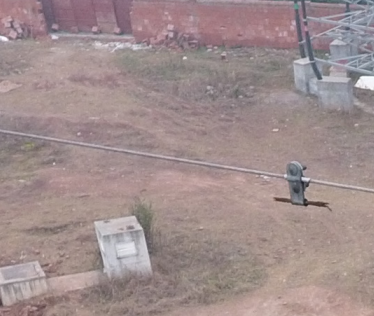damper_defect: (268, 157, 334, 211)
